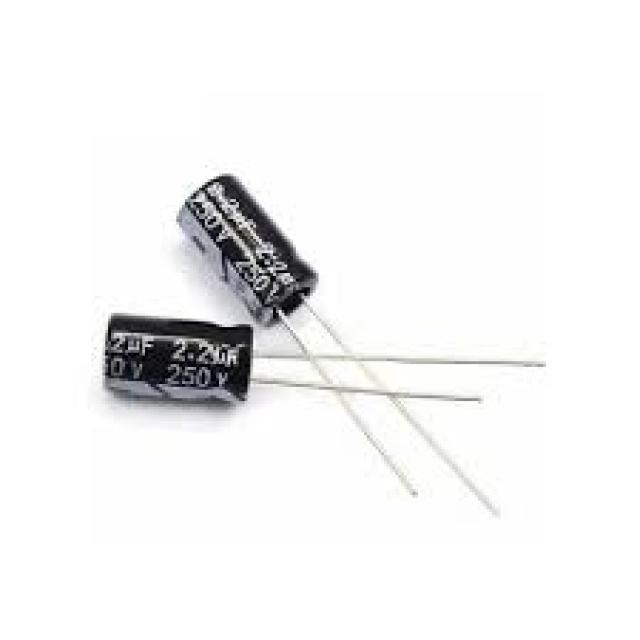Capacitor: (176, 176, 319, 327), (102, 313, 253, 401)
